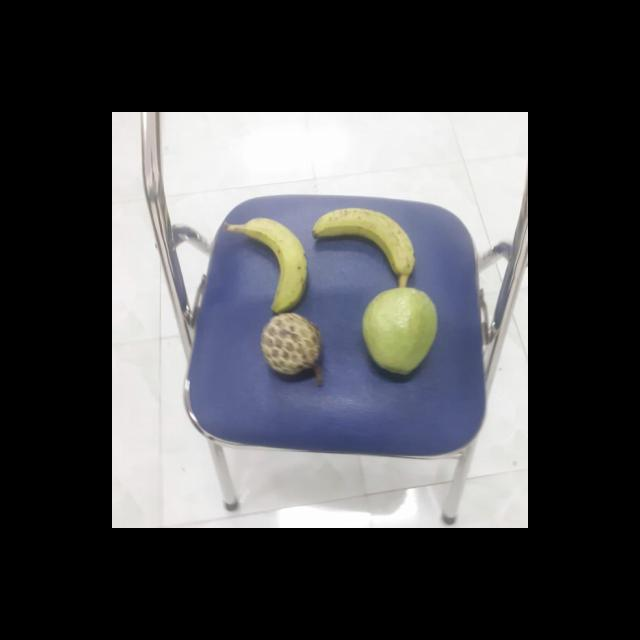Sakya fruit: (262, 313, 326, 376)
banana: (314, 208, 420, 284), (237, 217, 313, 310)
guava: (362, 286, 442, 374)
